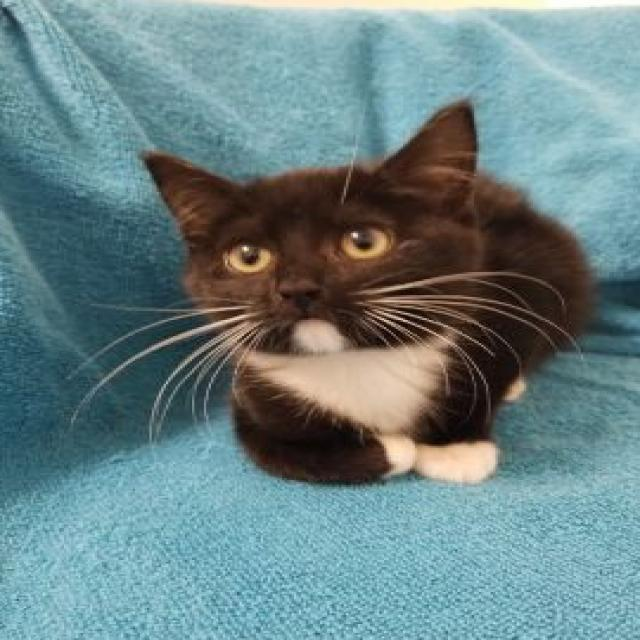Tuxedo: (133, 96, 600, 491)
